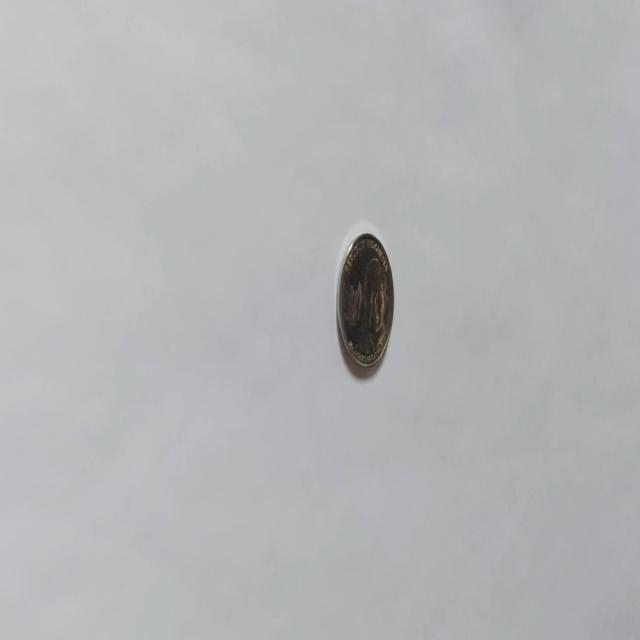seribu rupiah koin: (335, 228, 395, 370)
